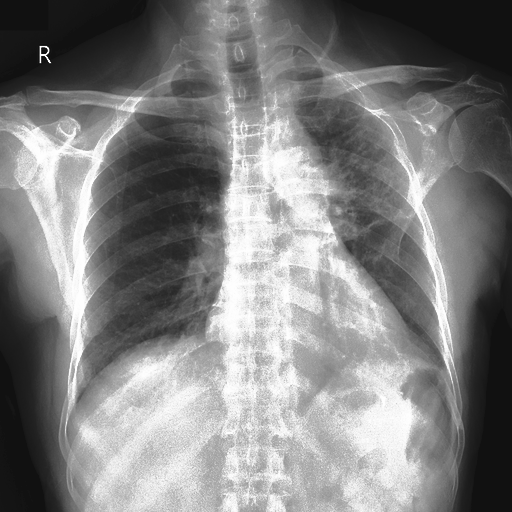ILD: (299, 84, 420, 244)
Nodule/Mass: (199, 301, 422, 375)
Pleural thickening: (298, 109, 407, 229)
Pneumothorax: (299, 84, 420, 244)
